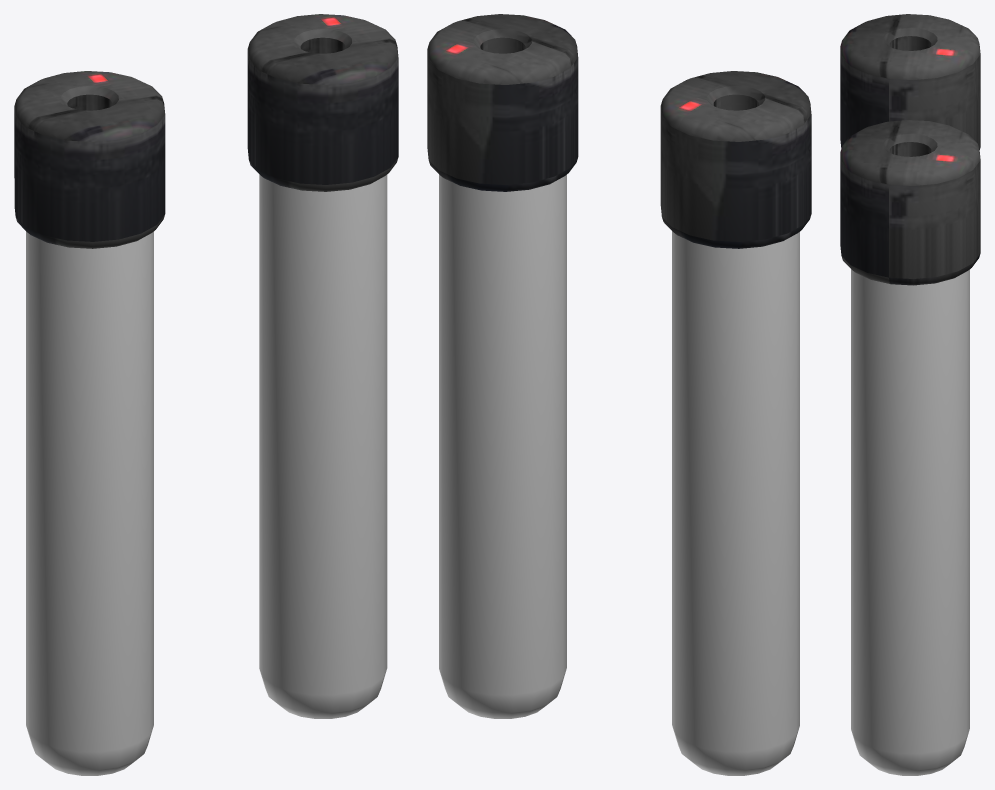
The model's file is healthtubes.fbx.
The picture shows the model from 3 angles, left to right: view 1: azimuth 30°, elevation 25°; view 2: azimuth 150°, elevation 25°; view 3: azimuth 270°, elevation 25°; orthographic projection. The views are drawn at different scales.
Parts seen in each view (by area): view 1: BoostTube, HealthTube; view 2: BoostTube, HealthTube; view 3: BoostTube, HealthTube.
Part boxes in pixels (x1=…): BoostTube: x1=247, y1=14, x2=398, y2=718; HealthTube: x1=14, y1=71, x2=165, y2=775; BoostTube: x1=427, y1=14, x2=578, y2=718; HealthTube: x1=660, y1=71, x2=811, y2=775; BoostTube: x1=840, y1=120, x2=980, y2=775; HealthTube: x1=840, y1=14, x2=980, y2=149.
Bounding box in the file's own units: 7.51 × 13.13 × 2.69.
